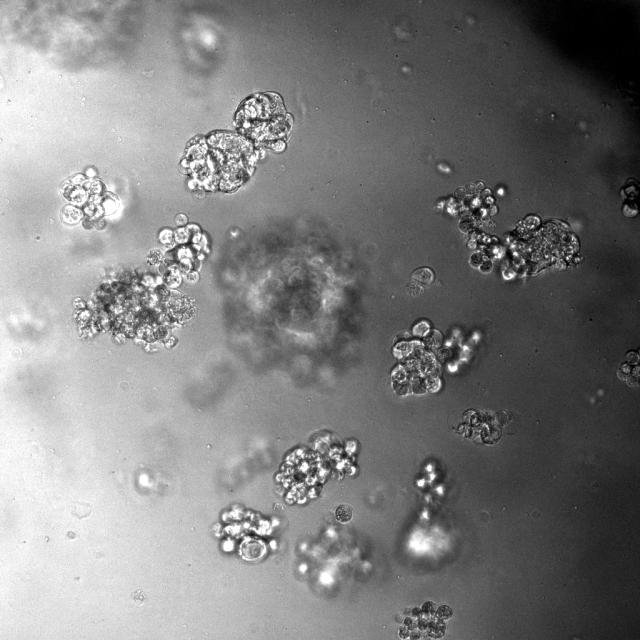organoid: (216, 219, 366, 384), (70, 212, 214, 355), (438, 181, 582, 281), (179, 91, 292, 199), (0, 0, 143, 68), (397, 456, 460, 572), (390, 318, 484, 395), (274, 429, 361, 504), (294, 521, 375, 596), (212, 503, 287, 563), (59, 165, 123, 230), (447, 408, 518, 445), (396, 600, 452, 639), (405, 266, 434, 297), (616, 349, 639, 387), (620, 178, 639, 217), (334, 503, 353, 523), (494, 183, 508, 198)
